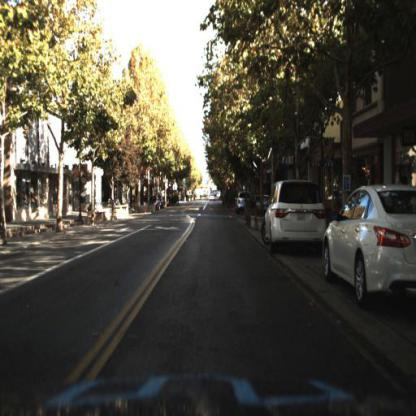car: (319, 185, 415, 303), (261, 179, 325, 254), (233, 187, 255, 215), (251, 193, 274, 213)
